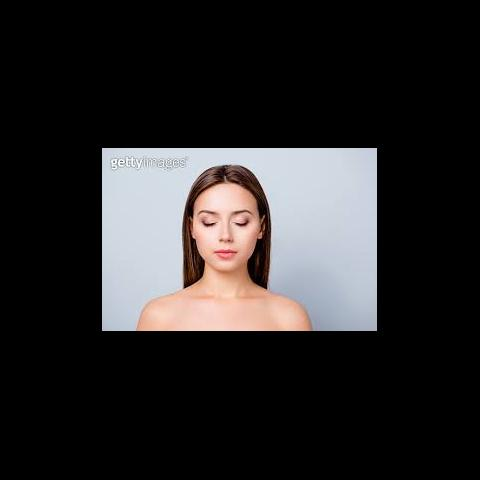closed: (196, 206, 256, 231)
